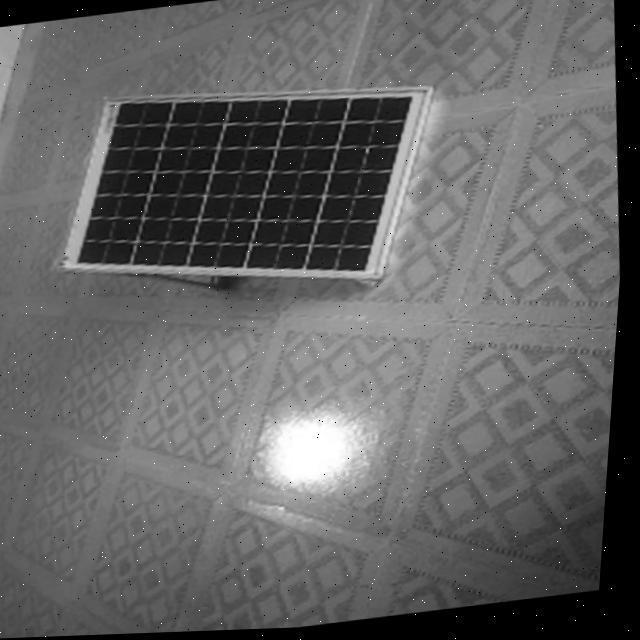Normal Solar Panel: (47, 61, 450, 318)
